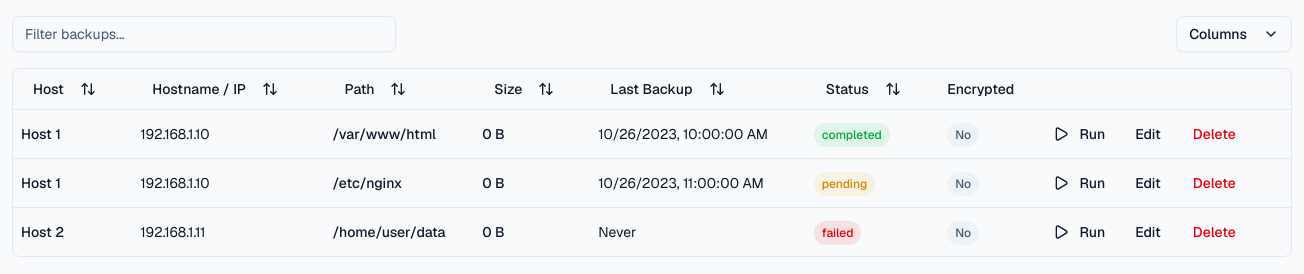
it: BackupsTable › Filtering › filters rows by host name
This screenshot has width=1304, height=274.
In the field with placeholder "Filter backups...": (204, 34) [12,16,396,52], type "Host 2"
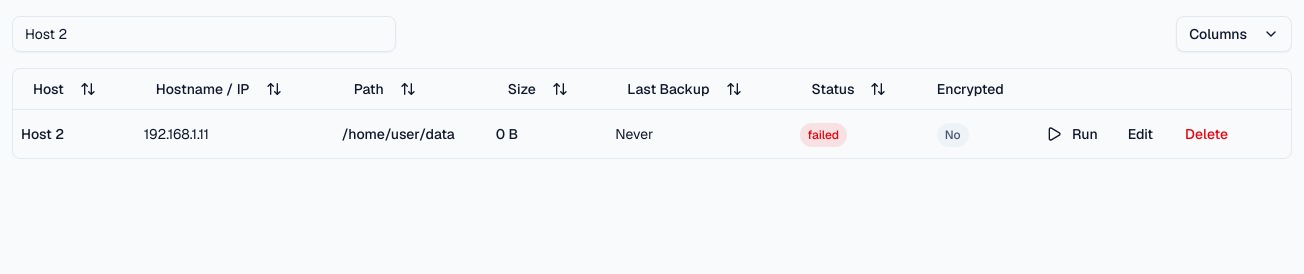
Expected: the text "/home/user/data" is shown, [342,124,455,142]
Expected: the text "/var/www/html" is gone
Expected: the text "/etc/nginx" is gone
